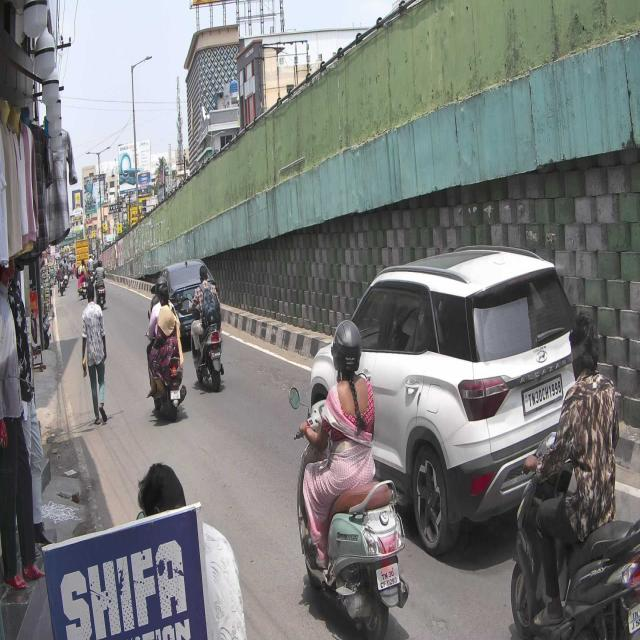single_rider: (506, 306, 640, 640), (288, 318, 408, 640)
